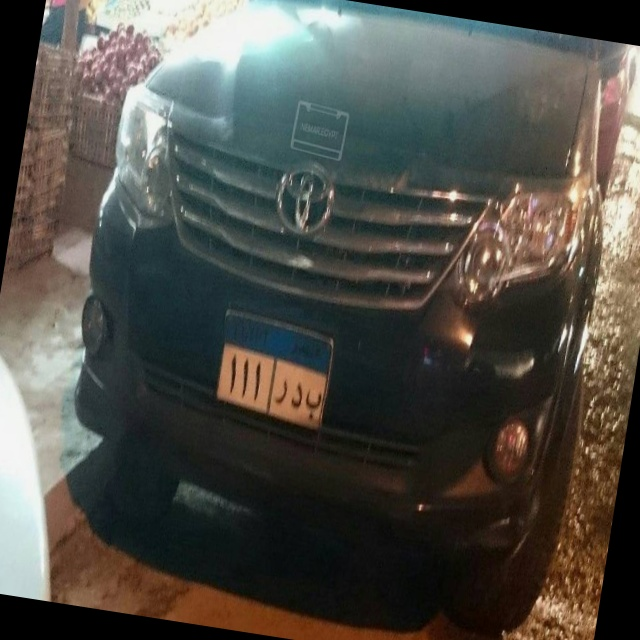License Plate: (205, 303, 341, 440)
